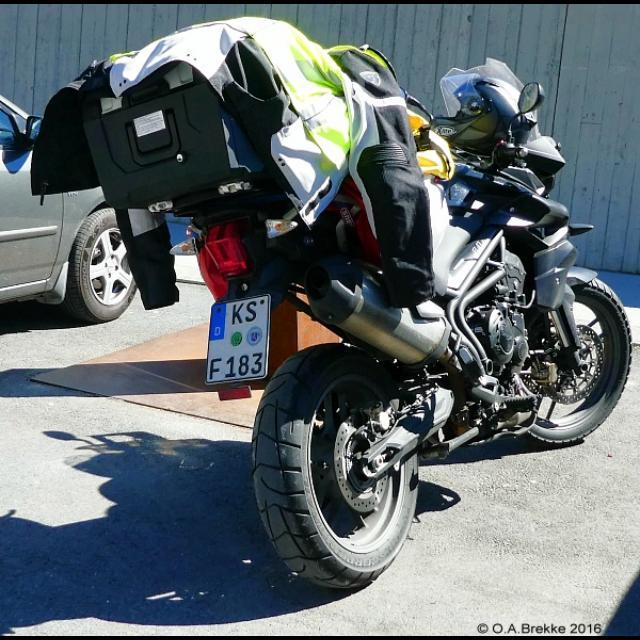license-plates: (205, 296, 270, 385)
